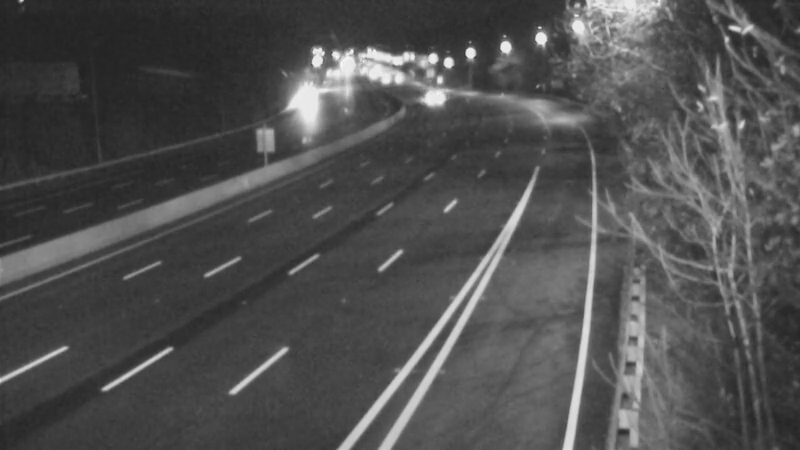vehicle: (408, 71, 458, 121)
